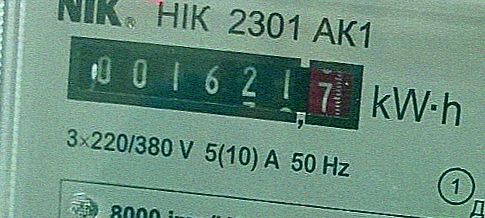0: (127, 52, 154, 91), (92, 49, 117, 85)
1: (278, 62, 297, 101), (167, 55, 186, 93)
2: (238, 61, 264, 99)
6: (201, 60, 224, 96)
7: (312, 76, 336, 114)
screen: (58, 21, 374, 143)
